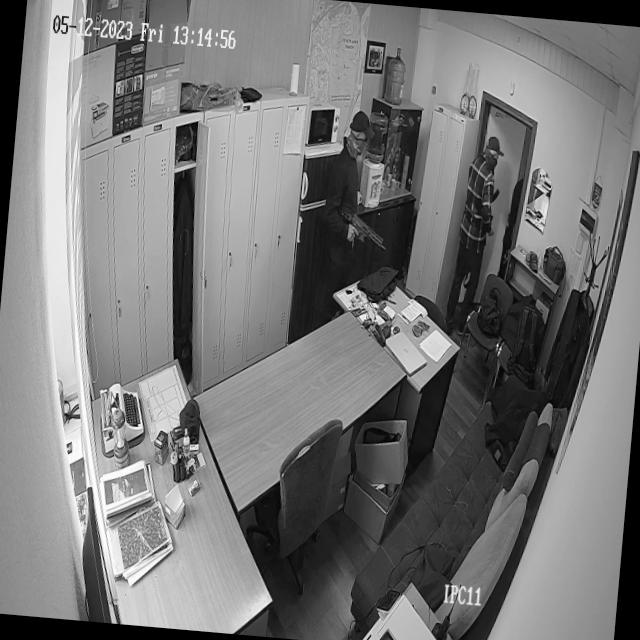gun: (341, 207, 388, 252)
person: (460, 130, 505, 250)
person with a gun: (308, 95, 384, 329)
